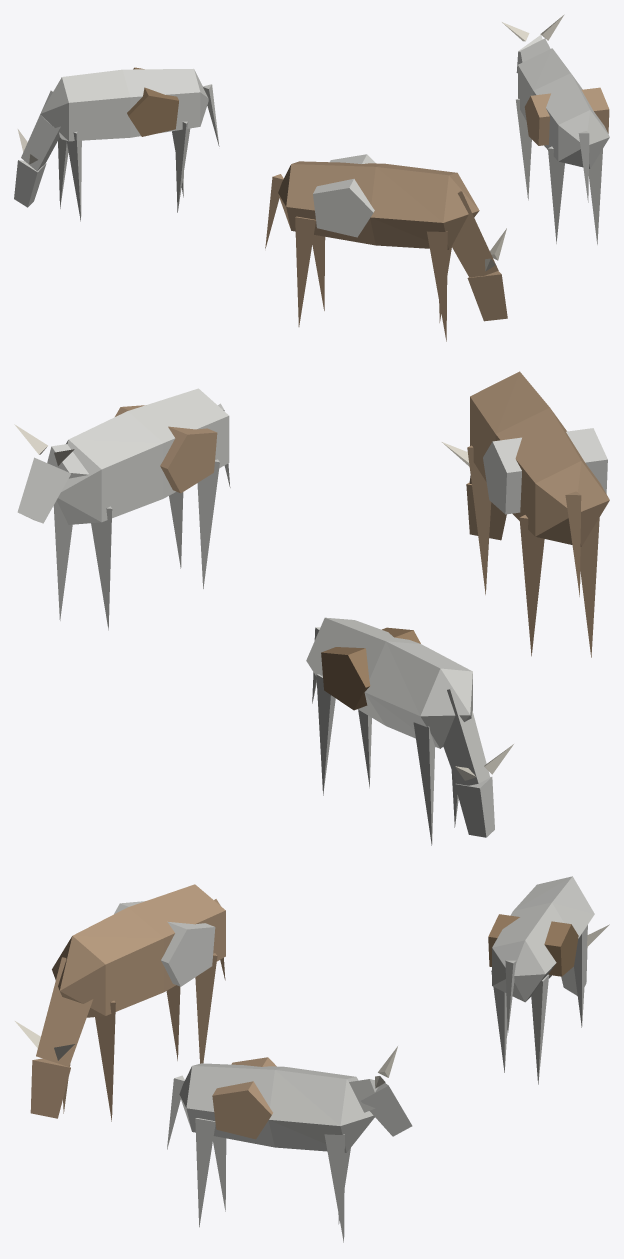
File: cattle.glb
3 views of the same model, one above another, from view 1: azimuth 30°, elevation 25°; view 2: azimuth 150°, elevation 25°; view 3: azimuth 270°, elevation 25° (orthographic). The views are drawn at different scales.
Parts seen in each view (by area): view 1: LOD0; view 2: LOD0; view 3: LOD0.
Boxes of the visible parts, left/top/right/bottom form: LOD0: left=14, top=14, right=609, bottom=341; LOD0: left=14, top=371, right=609, bottom=845; LOD0: left=15, top=876, right=609, bottom=1242.
Size of what is drawn, in the model's own units: 0.8794 by 0.3011 by 0.8825.
